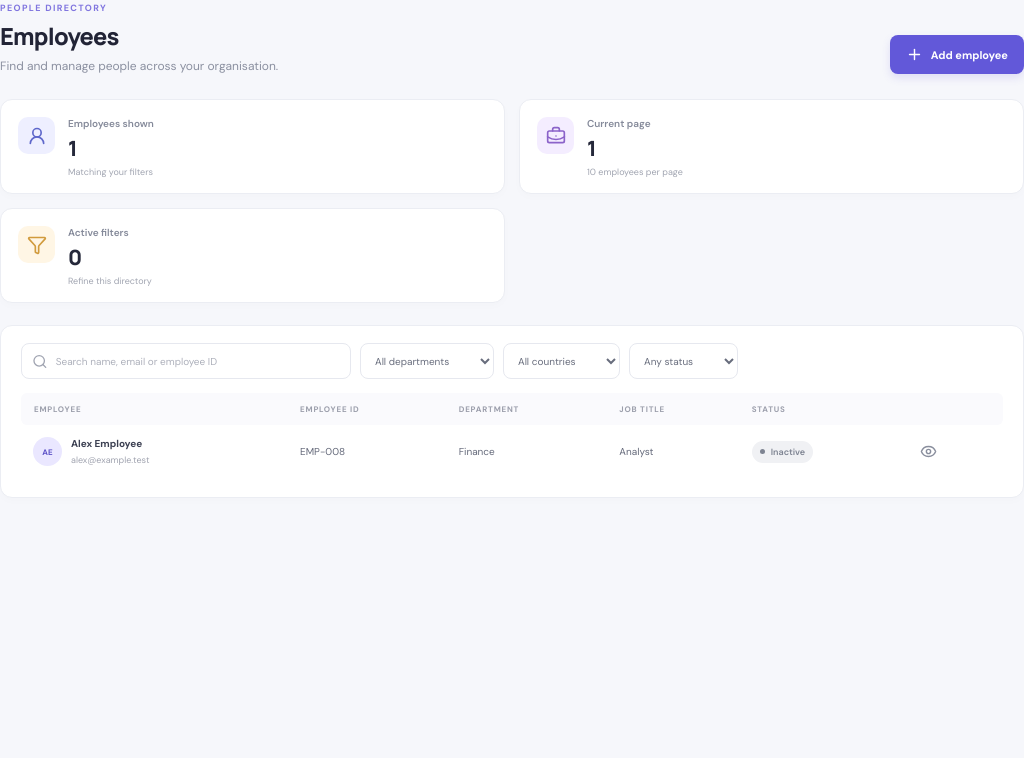
Test case: employee, department, salary, payslip and profile flows › uses a neutral inactive badge and displays the last working date
Click the button named "View Alex Employee" at point(929, 452), box [914,437,943,466]
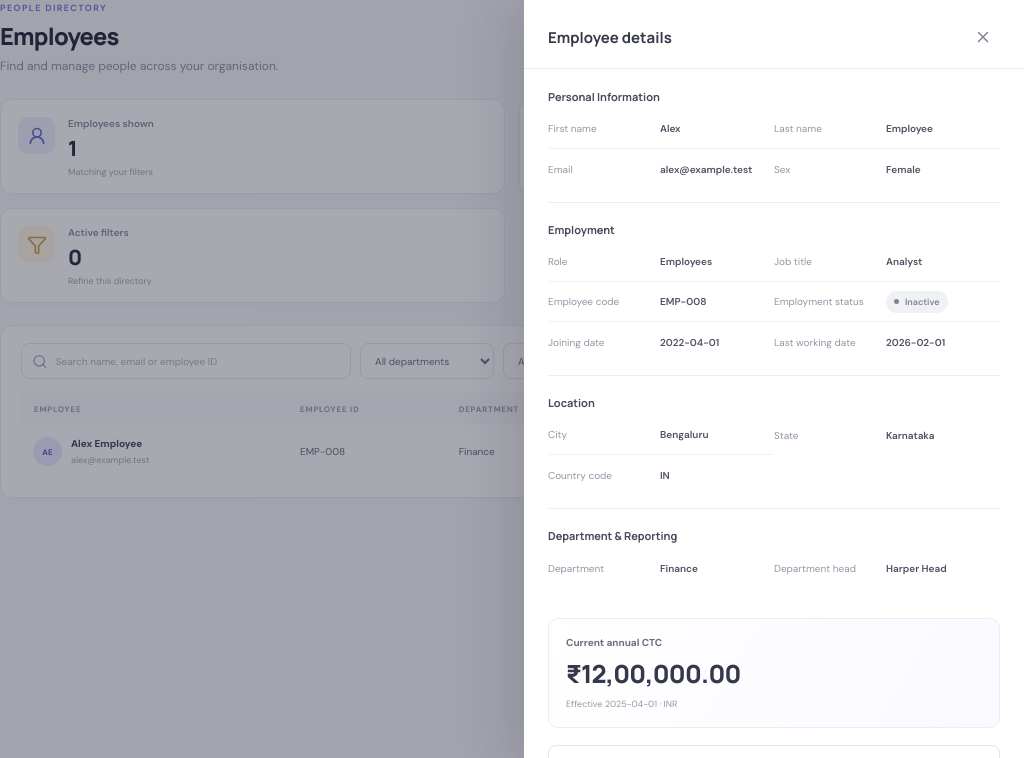
Now the element named "Employment" is shown, box [548,220,1000,376]
Now the text "2026-02-01" is shown, box [886,336,945,348]
